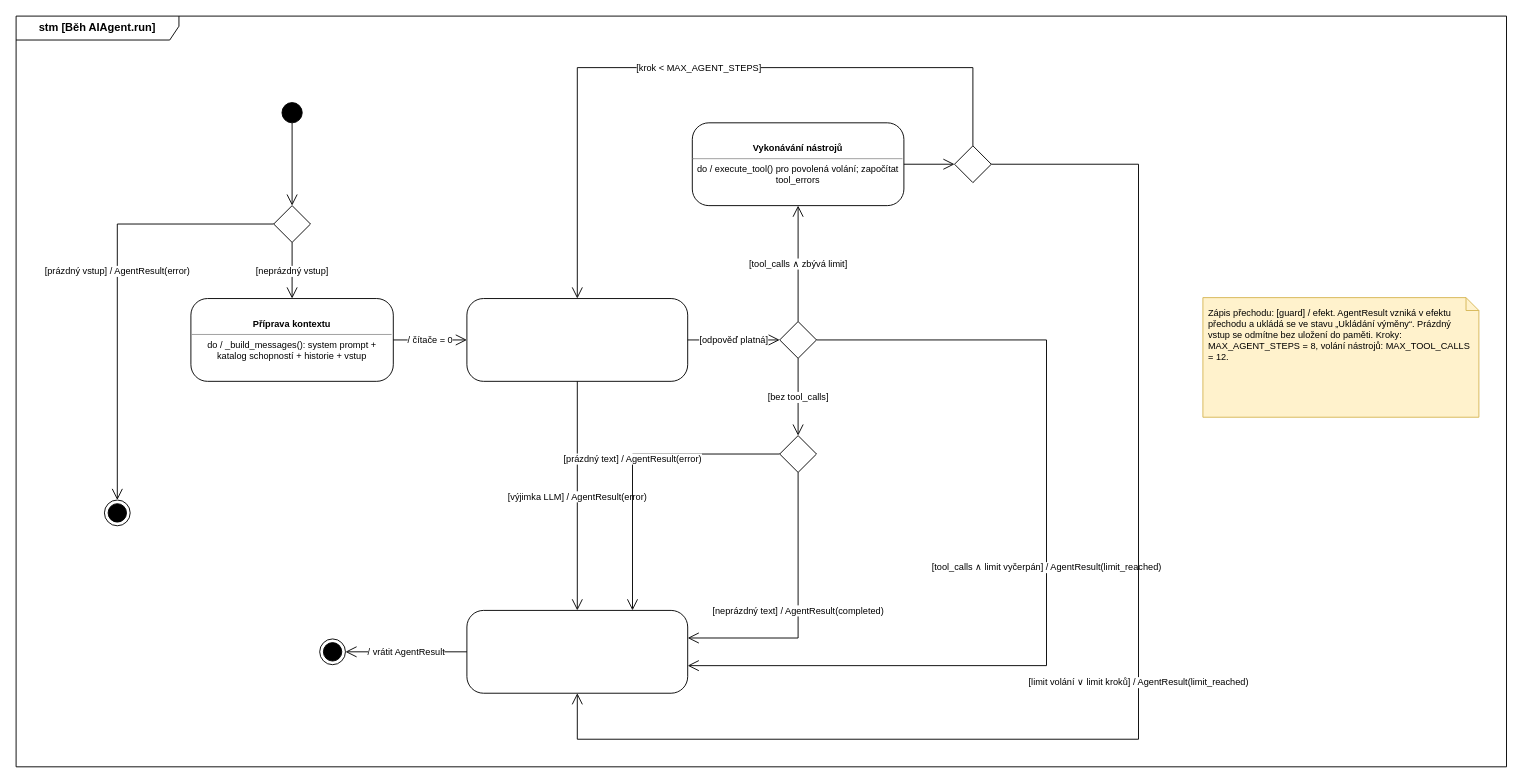
The diagram is 1523 pixels wide and 783 high, and some of its shapes have lost their labels. Here are the shapes that lost their labels. From the top down, the box of each, then its label:
(466, 298, 688, 381): Čekání na odpověď LLM do / llm.chat(LLMRequest); _validate_llm_response()
(466, 610, 688, 693): Ukládání výměny do / save_exchange(vstup, answer); při chybě memory_warning
